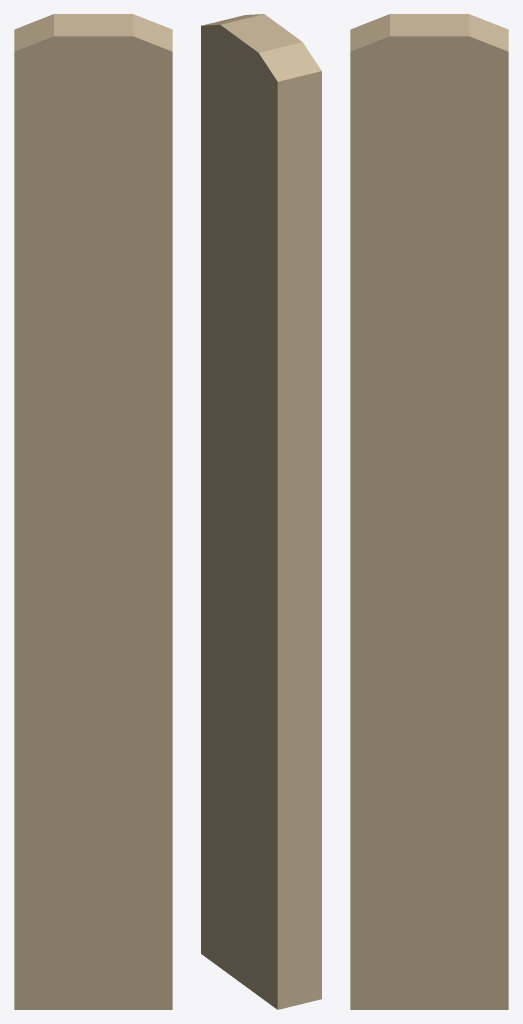
File: fence plank.fbx
3 views of the same model, side by side, from view 1: azimuth 90°, elevation 25°; view 2: azimuth 210°, elevation 25°; view 3: azimuth 270°, elevation 25° (orthographic). The views are drawn at different scales.
Parts seen in each view (by area): view 1: polySurface25585; view 2: polySurface25585; view 3: polySurface25585.
Boxes of the visible parts, left/top/right/bottom form: polySurface25585: left=14, top=14, right=172, bottom=1009; polySurface25585: left=201, top=14, right=321, bottom=1009; polySurface25585: left=350, top=14, right=508, bottom=1009.
Bounding box in the file's own units: 111 × 2261 × 333.
